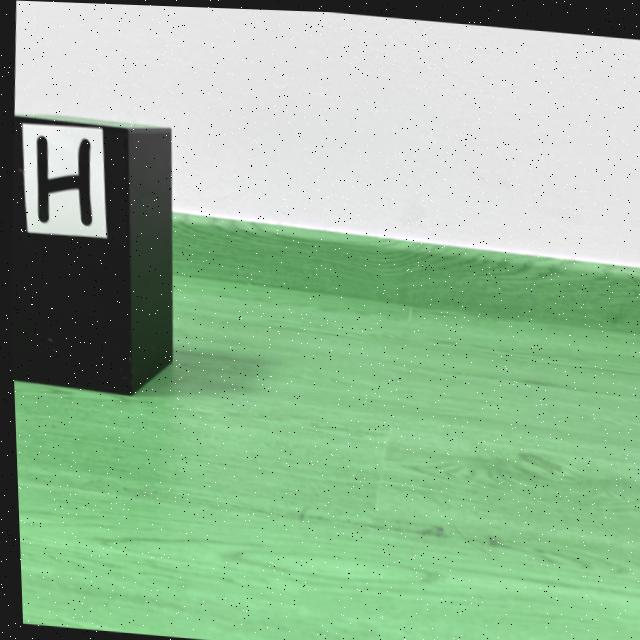H: (35, 136, 90, 225)
